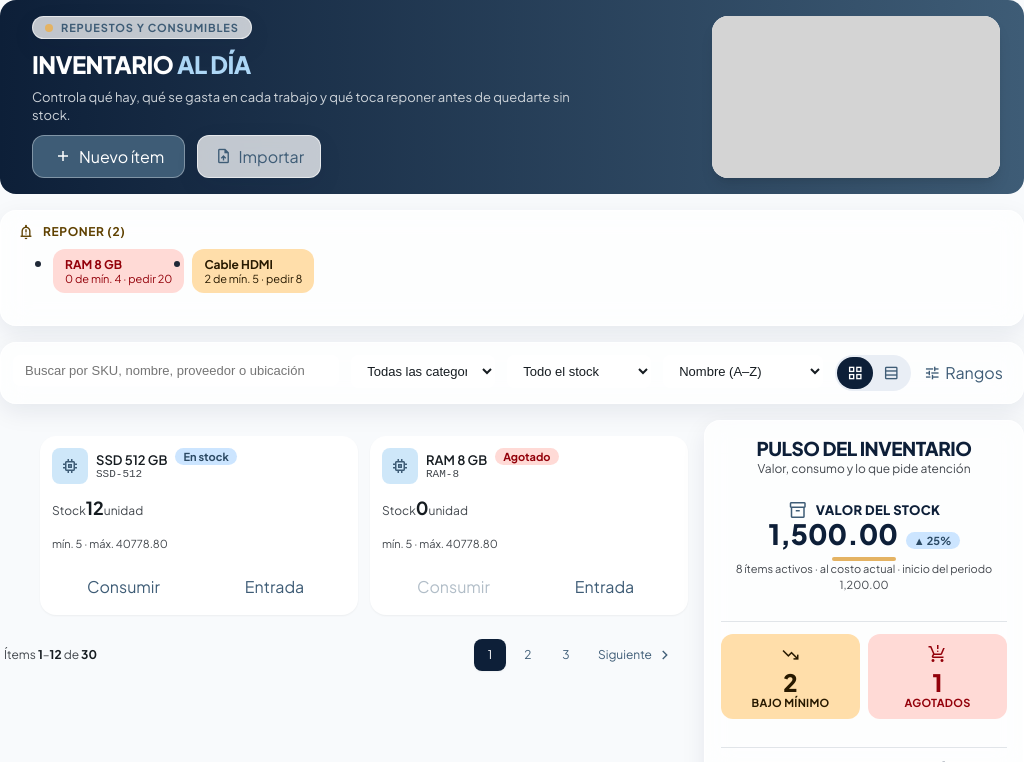
InventoryComponent › movement form › never lets a consumption exceed the stock, and shows the resulting stock
Click the 1st button "Consumir" at (124, 586), box 52,570 -> 195,603
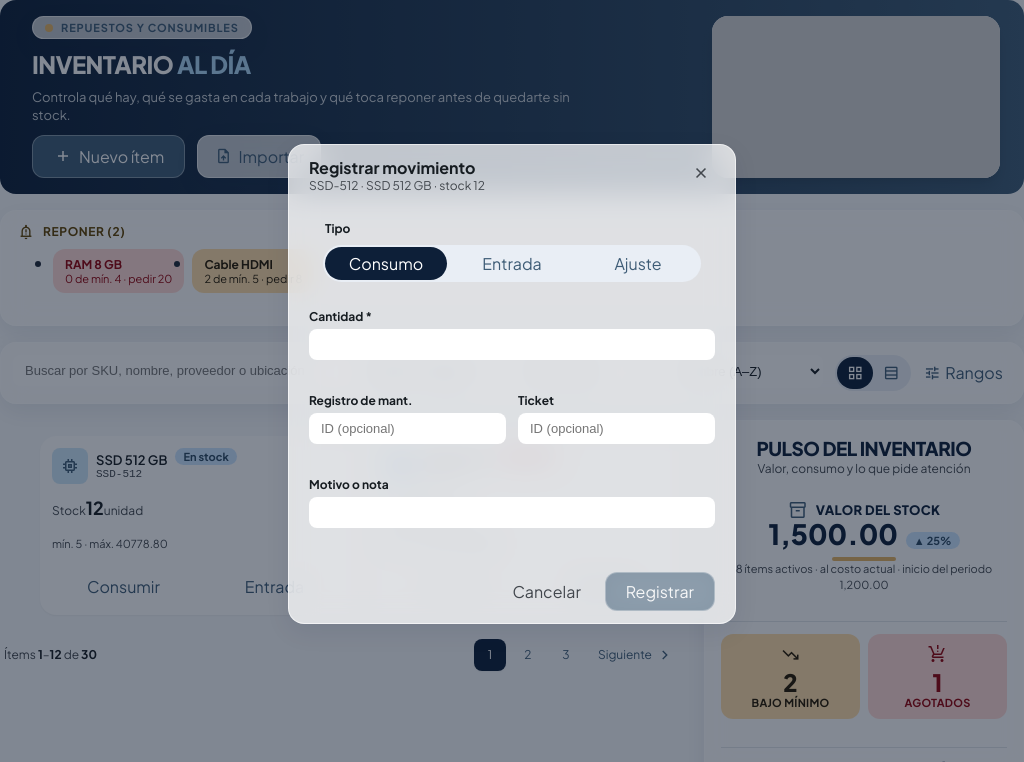
Type "13" into the number field with id "mm-quantity" at (512, 345), box 309,329 -> 715,360
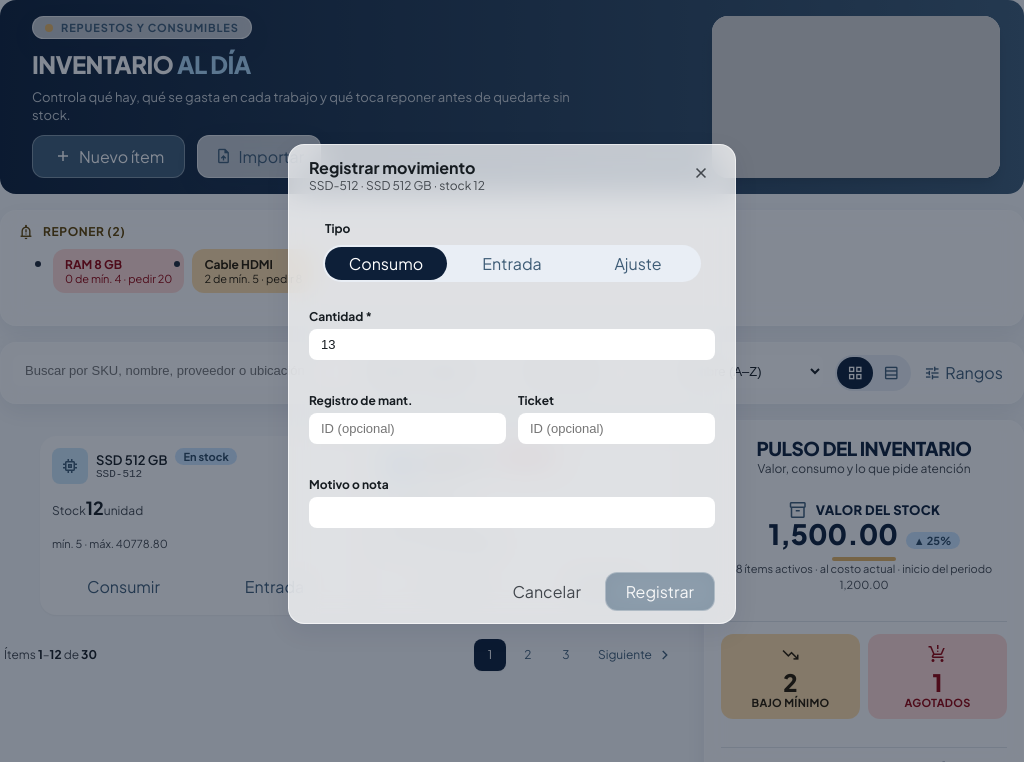
Leave the number field with id "mm-quantity", box 309,329 -> 715,360
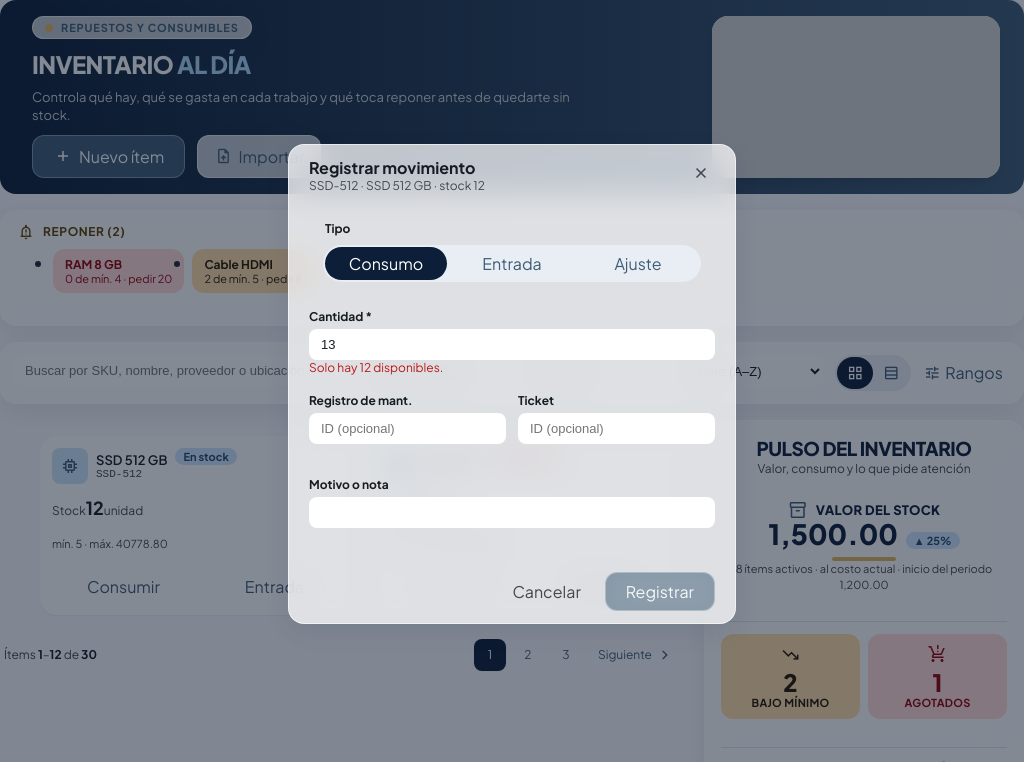
Now the submit button is disabled, box 605,572 -> 715,611
Now the message "Solo hay 12 disponibles." is shown, box 309,360 -> 443,375
Replace the text in the number field with id "mm-quantity" with "12" at (512, 345), box 309,329 -> 715,360
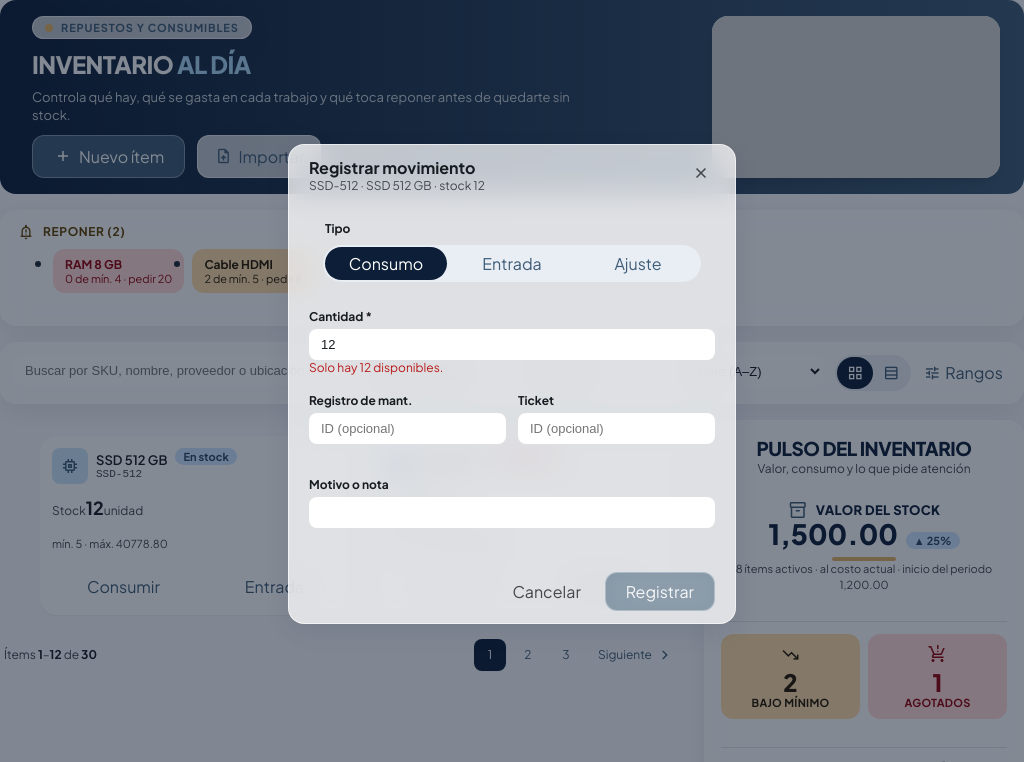
Leave the number field with id "mm-quantity", box 309,329 -> 715,360
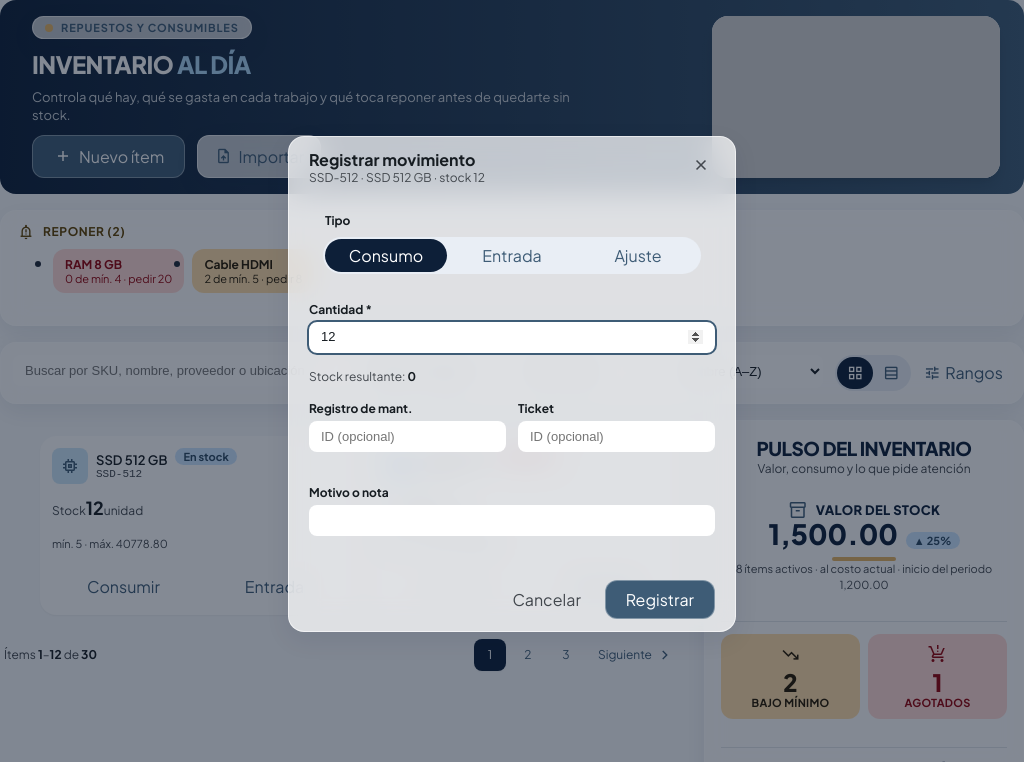
Now the submit button is enabled, box 605,580 -> 715,619
Now the dialog shows "Stock resultante: 0", box 288,136 -> 736,632
